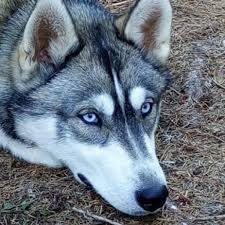Siberian Husky: (4, 4, 187, 221)
